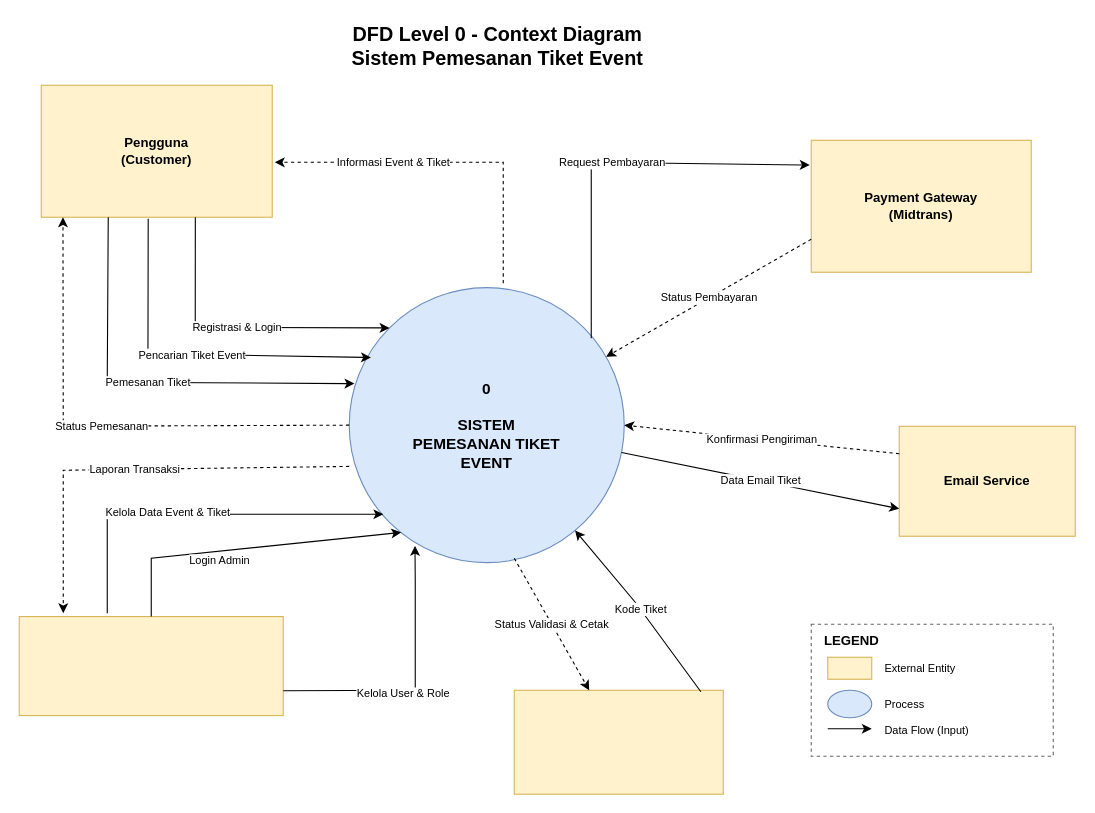
Image size: 1095x813. Some labels were removed from this diagram. Here are the shapes that lost their labels. From the top down, the centre of each, then its label:
pixel 150 665: Admin
pixel 618 741: Petugas Validasi Tiket
